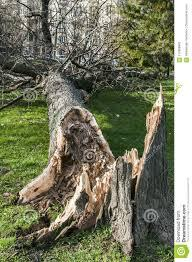Downstairs: (1, 1, 127, 240)
